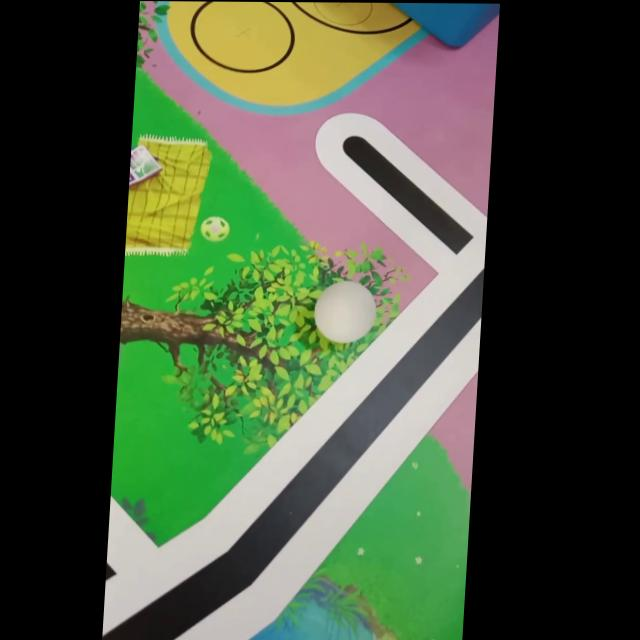white ball: (311, 279, 379, 344)
